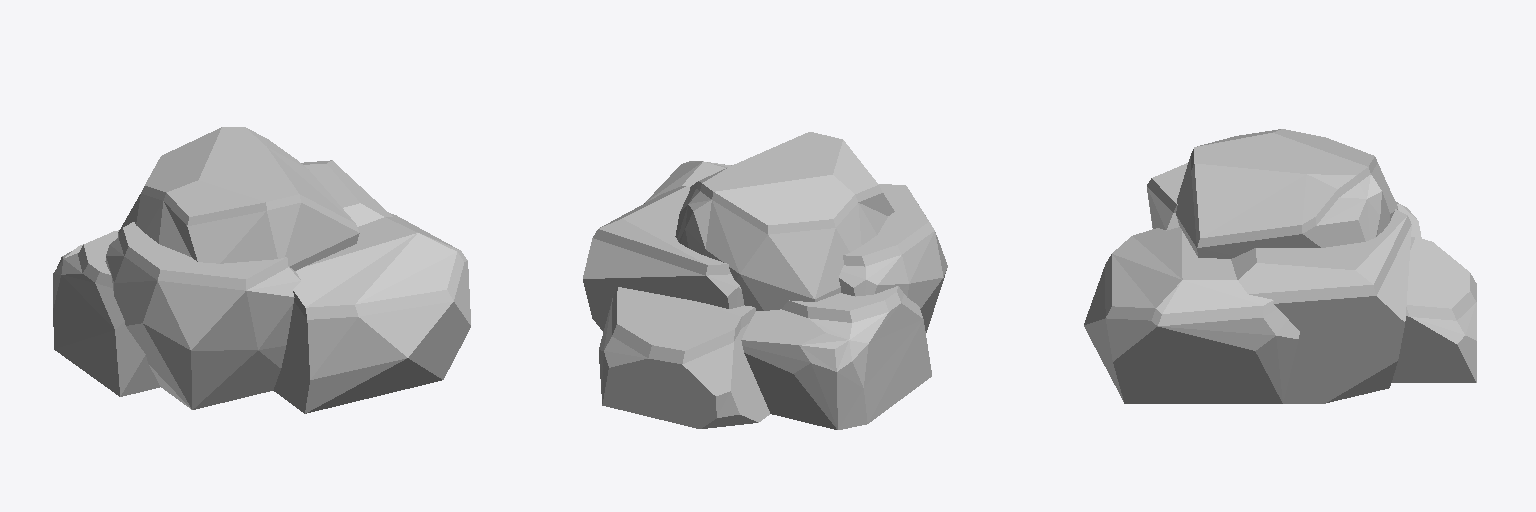
Rendered from Rock4.obj.
3 views of the same model, side by side, from view 1: azimuth 30°, elevation 25°; view 2: azimuth 150°, elevation 25°; view 3: azimuth 270°, elevation 25° (orthographic).
Parts seen in each view (by area): view 1: PP_Rock_Moss_Grown_11.002; view 2: PP_Rock_Moss_Grown_11.002; view 3: PP_Rock_Moss_Grown_11.002.
Boxes of the visible parts, <box> form: PP_Rock_Moss_Grown_11.002: <box>53,127,470,413</box>; PP_Rock_Moss_Grown_11.002: <box>583,132,947,429</box>; PP_Rock_Moss_Grown_11.002: <box>1084,129,1476,403</box>.
Bounding box in the file's own units: 4.08 × 2.43 × 4.6.